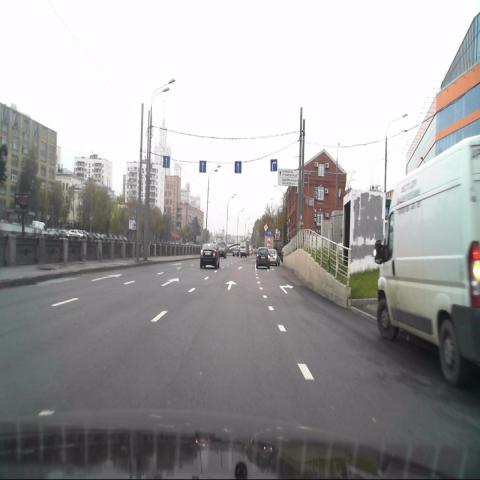5_15_2: (162, 155, 170, 168), (199, 160, 206, 173), (234, 160, 241, 173), (271, 159, 277, 171)
